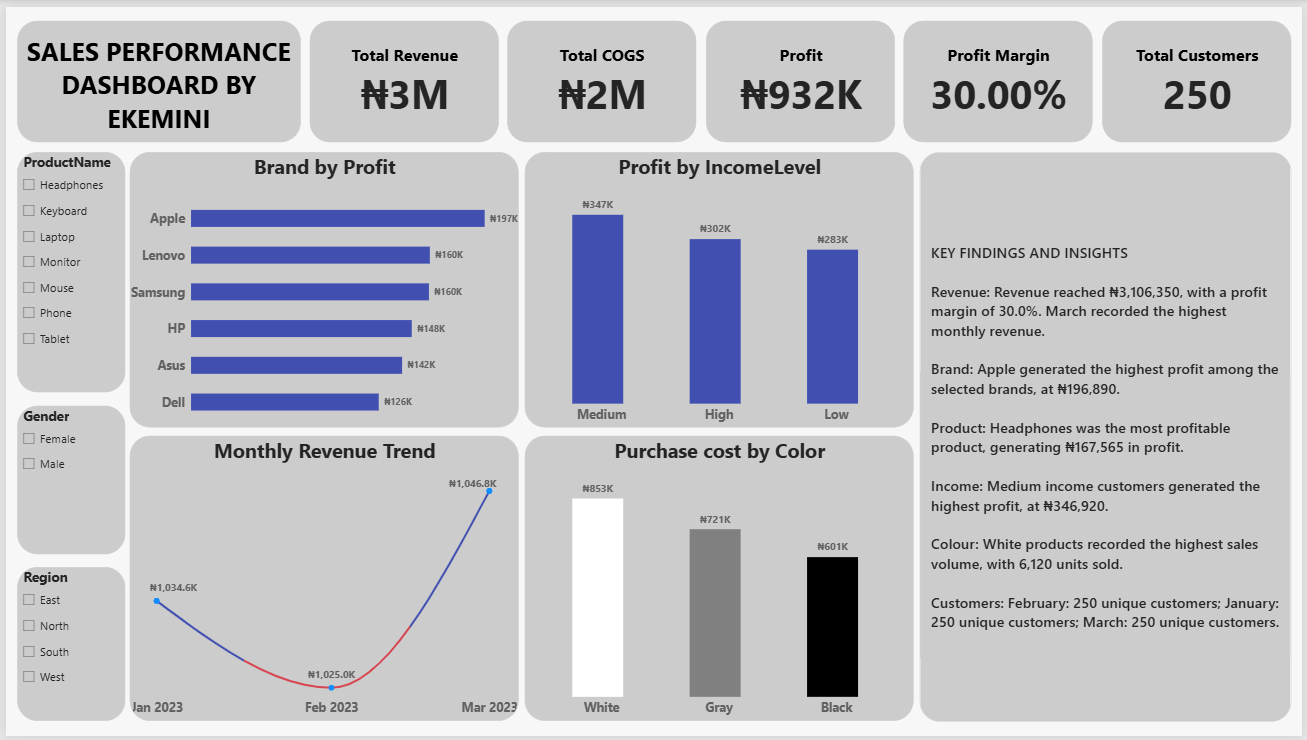

The page's visual inventory and layout, read from the dashboard file:
{"tool":"powerbi","page":{"name":"Sales Dashboard","canvas":[1920,1080],"ordinal":0},"visuals":[{"type":"cardVisual","title":"Revenue","fields":{"Data":["Sales.Total Revenue"]},"box":[449.6,20,280,180],"z":0},{"type":"cardVisual","title":"Profit","fields":{"Data":["Sales.Profit"]},"box":[1036.8,20,280,180],"z":1},{"type":"cardVisual","title":"COGS","fields":{"Data":["Sales.Total COGS"]},"box":[743.2,20,280,180],"z":2},{"type":"cardVisual","title":"Customers","fields":{"Data":["Customers.Total Customers"]},"box":[1624,20,280,180],"z":3},{"type":"clusteredBarChart","title":"Brand by Profit","fields":{"Category":["Products.Brand"],"Y":["Sales.Profit"]},"box":[184,214,576,408],"z":4},{"type":"clusteredColumnChart","title":"Purchase cost by Color","fields":{"Category":["Products.Color"],"Y":["Sales.Total COGS"]},"box":[767.3,635.2,575.5,423.5],"z":5},{"type":"clusteredColumnChart","fields":{"Category":["Customers.IncomeLevel"],"Y":["Sales.Profit"]},"box":[768,214,576,408],"z":6},{"type":"lineChart","title":" Monthly Revenue Trend","fields":{"Category":["DateTable.Date.Variation.Date Hierarchy.Year","DateTable.Date.Variation.Date Hierarchy.Month"],"Y":["Sales.Total Revenue"]},"box":[184,636,576,422],"z":7},{"type":"cardVisual","title":"Profit Margin","fields":{"Data":["Sales.Profit Margin"]},"box":[1330.4,20,280,180],"z":9},{"type":"textbox","box":[16,20,420,180],"z":10},{"type":"slicer","fields":{"Values":["Products.ProductName"]},"box":[16,214,160,356],"z":12},{"type":"slicer","fields":{"Values":["Customers.Region"]},"box":[16,830,160,228],"z":13},{"type":"slicer","fields":{"Values":["Customers.Gender"]},"box":[16,590,160,220],"z":15},{"type":"cardVisual","fields":{"Data":["Sales.Dynamic Key Findings Panel"]},"box":[1355.4,213.5,548.3,843.3],"z":16}]}

Visuals, with their boxes in screenshot pixels (x1, y1, x2, y2), scaled from the page's 1920x1080 canvas onto the 1307x740 screenshot:
"Revenue" cardVisual: rect(306, 14, 497, 137)
"Profit" cardVisual: rect(706, 14, 896, 137)
"COGS" cardVisual: rect(506, 14, 697, 137)
"Customers" cardVisual: rect(1106, 14, 1296, 137)
"Brand by Profit" clusteredBarChart: rect(125, 147, 517, 426)
"Purchase cost by Color" clusteredColumnChart: rect(522, 435, 914, 725)
clusteredColumnChart - Customers.IncomeLevel x Sales.Profit: rect(523, 147, 915, 426)
" Monthly Revenue Trend" lineChart: rect(125, 436, 517, 725)
"Profit Margin" cardVisual: rect(906, 14, 1096, 137)
textbox: rect(11, 14, 297, 137)
slicer - Products.ProductName: rect(11, 147, 120, 391)
slicer - Customers.Region: rect(11, 569, 120, 725)
slicer - Customers.Gender: rect(11, 404, 120, 555)
cardVisual - Sales.Dynamic Key Findings Panel: rect(923, 146, 1296, 724)
